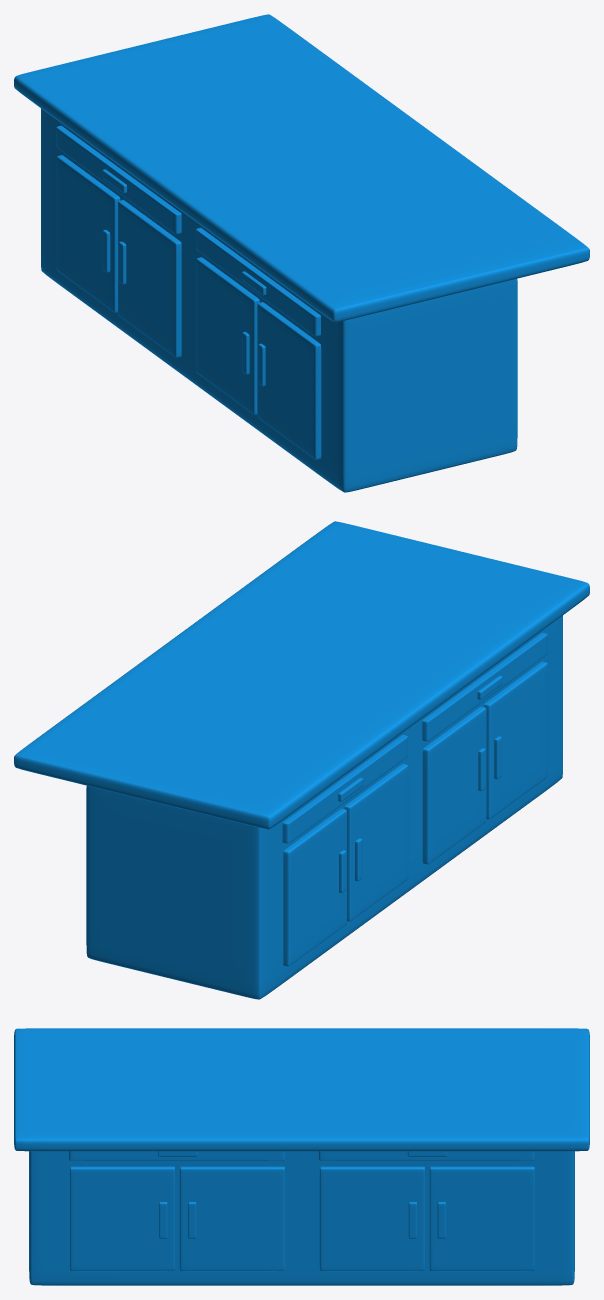
File: Counter.glb
3 views of the same model, one above another, from view 1: azimuth 30°, elevation 25°; view 2: azimuth 150°, elevation 25°; view 3: azimuth 270°, elevation 25° (orthographic). The views are drawn at different scales.
Parts seen in each view (by area): view 1: pCube2, pCube1, pCube6, pCube4, pCube8, pCube3, pCube5, pCube7; view 2: pCube2, pCube1, pCube8, pCube3, pCube4, pCube6, pCube7, pCube5; view 3: pCube2, pCube1, pCube25, pCube17, pCube19, pCube18, pCube21, pCube20.
Part boxes in pixels (x1,y1,x2,y2): pCube2: [14, 14, 589, 322]; pCube1: [41, 108, 517, 492]; pCube6: [257, 302, 321, 459]; pCube4: [118, 200, 181, 357]; pCube8: [196, 257, 259, 414]; pCube3: [56, 155, 120, 312]; pCube5: [56, 125, 181, 234]; pCube7: [196, 227, 320, 336]; pCube2: [14, 521, 589, 829]; pCube1: [86, 615, 562, 999]; pCube8: [422, 706, 486, 864]; pCube3: [283, 808, 346, 966]; pCube4: [344, 764, 408, 921]; pCube6: [484, 661, 547, 819]; pCube7: [422, 632, 547, 741]; pCube5: [282, 734, 407, 843]; pCube2: [14, 1028, 589, 1151]; pCube1: [29, 1151, 574, 1285]; pCube25: [319, 1166, 425, 1271]; pCube17: [429, 1166, 534, 1271]; pCube19: [70, 1166, 175, 1271]; pCube18: [179, 1166, 284, 1271]; pCube21: [318, 1151, 534, 1160]; pCube20: [69, 1151, 284, 1160].
Size of the model in its own units: 3.77 by 2.74 by 8.14.
2 materials, 2 textured.
